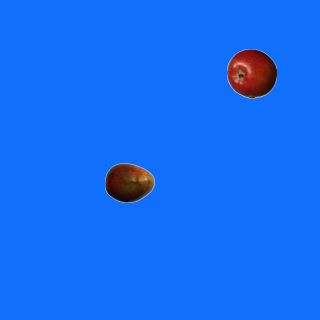Apple Braeburn: (226, 48, 276, 98)
Mango Red: (104, 157, 154, 207)
